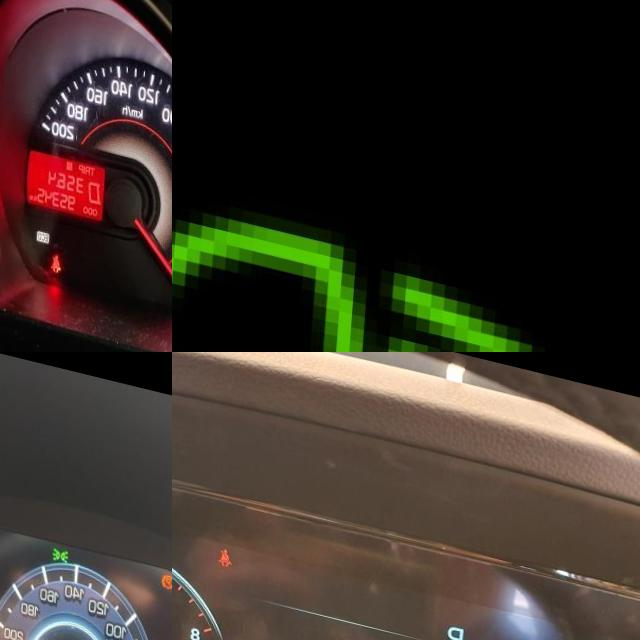Low beam: (172, 166, 566, 352)
SideLamp: (55, 532, 73, 550)
